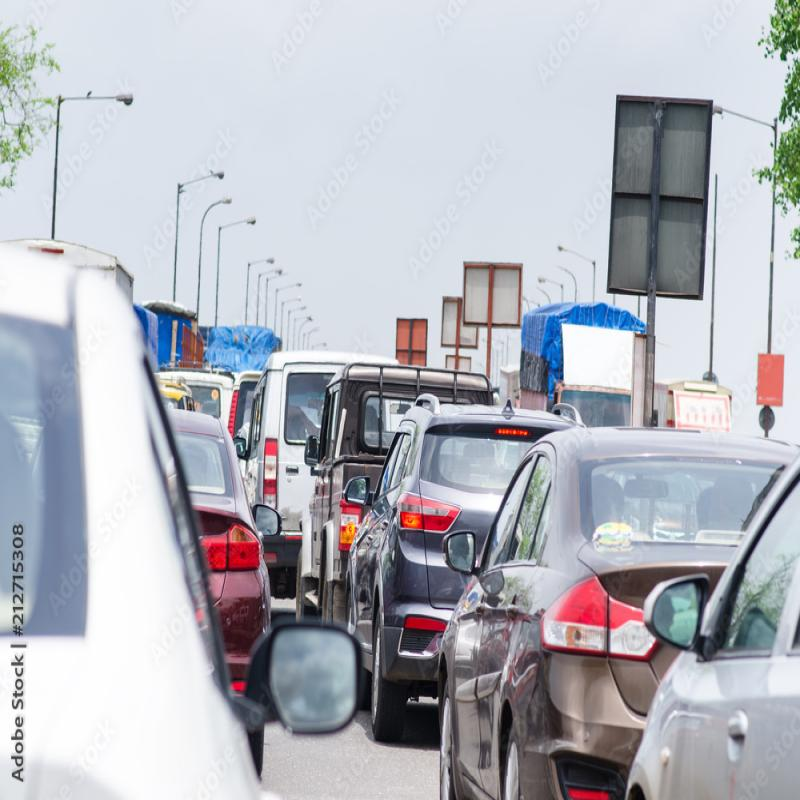car: (453, 412, 771, 800), (366, 398, 562, 725), (170, 383, 276, 693), (303, 374, 400, 629), (258, 350, 348, 575)
